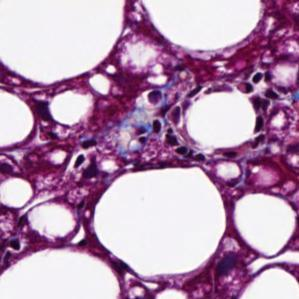inflammation: (144, 113, 196, 161), (239, 67, 282, 105)
